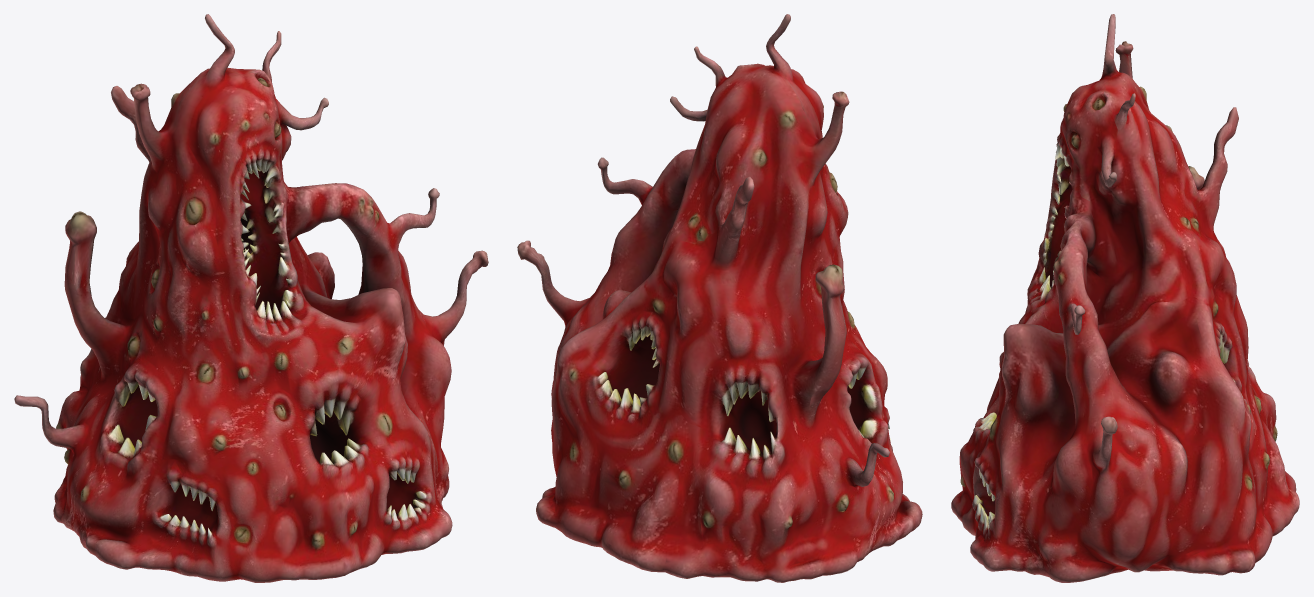
Rendered from MZ4250 - Gibbering Mouther 2.glb.
3 views of the same model, side by side, from view 1: azimuth 30°, elevation 25°; view 2: azimuth 150°, elevation 25°; view 3: azimuth 270°, elevation 25° (orthographic). The views are drawn at different scales.
Parts seen in each view (by area): view 1: default; view 2: default; view 3: default.
Boxes of the visible parts, x1,y1,x2,y2 form: default: (14,14,488,582); default: (517,14,922,582); default: (951,14,1299,582).
Size of the model in its own units: 1.13 by 1.31 by 0.8587.
1 material, 1 textured.
